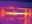Hotspot: (6, 12, 29, 15)
